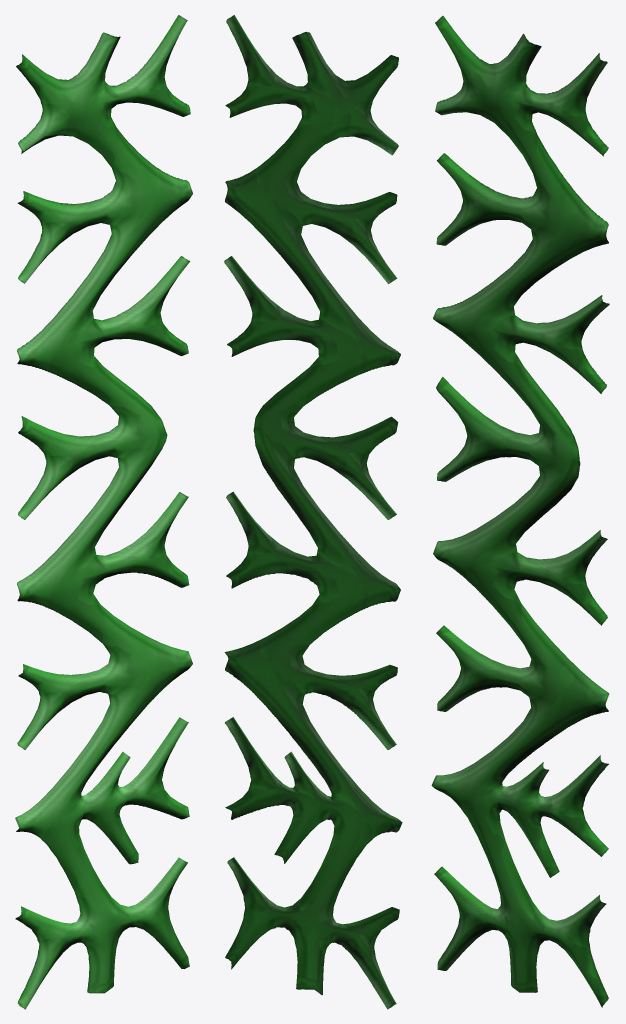
Rendered from PlantaAquatica.FBX.
The picture shows the model from 3 angles, left to right: view 1: azimuth 30°, elevation 25°; view 2: azimuth 150°, elevation 25°; view 3: azimuth 330°, elevation 25°; orthographic projection.
Parts seen in each view (by area): view 1: PlantaLowpoly, PlantaHipoly; view 2: PlantaHipoly, PlantaLowpoly; view 3: PlantaLowpoly, PlantaHipoly.
Boxes of the visible parts, x1,y1,x2,y2 form: PlantaLowpoly: [15, 15, 192, 1009]; PlantaHipoly: [16, 16, 190, 1005]; PlantaHipoly: [225, 15, 400, 1007]; PlantaLowpoly: [224, 15, 402, 1009]; PlantaLowpoly: [431, 19, 609, 1007]; PlantaHipoly: [434, 16, 609, 1006].
Size of the model in its own units: 0.181 by 0.9418 by 0.0108.
